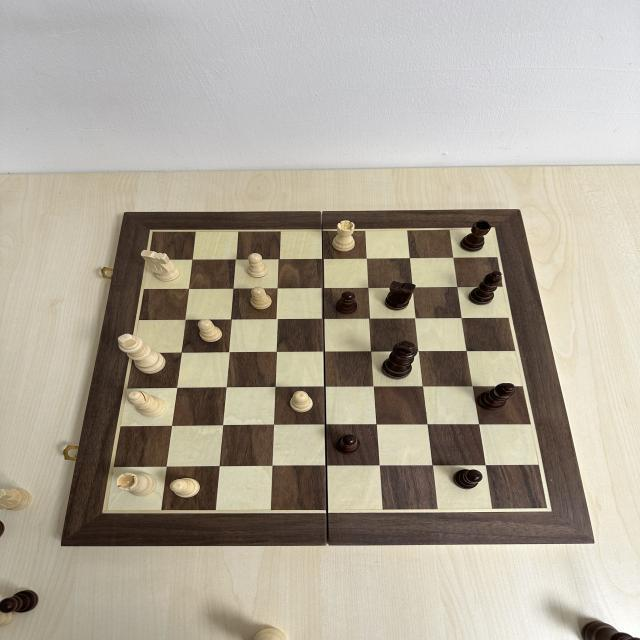chess-table-corners: (538, 503, 558, 518), (99, 508, 113, 516), (146, 228, 157, 236), (491, 226, 497, 232)
